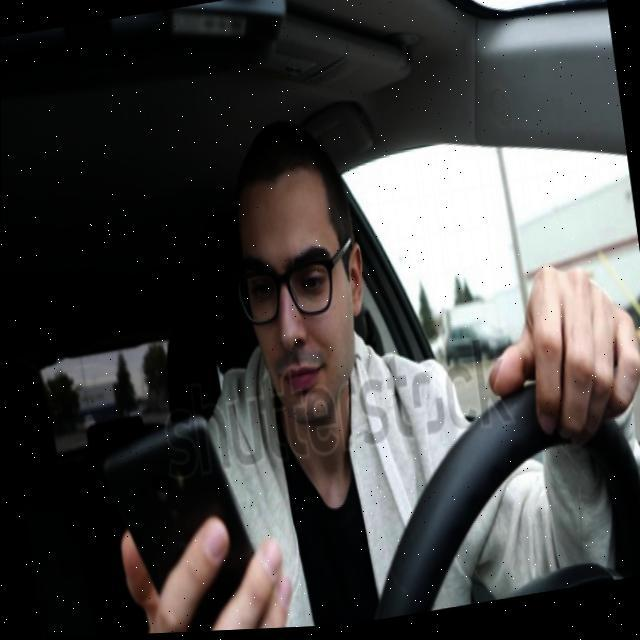PhoneCall: (94, 411, 268, 637)
